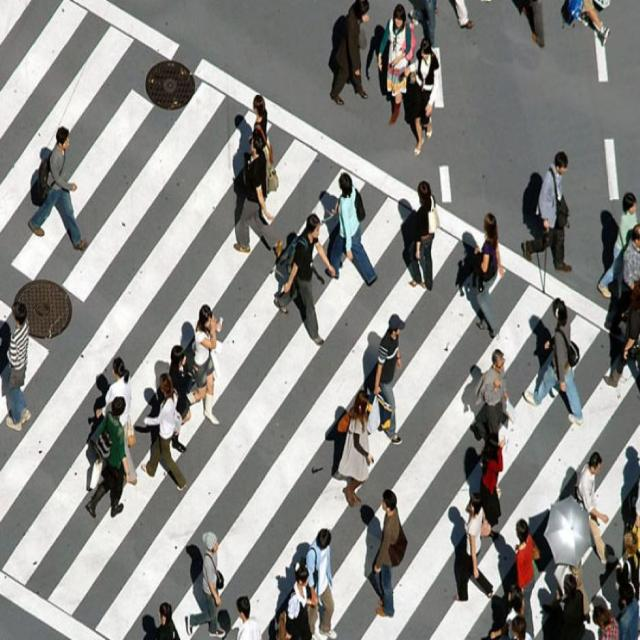body: (440, 496, 615, 640), (78, 322, 197, 494), (403, 0, 631, 48), (272, 208, 337, 349), (520, 294, 586, 431), (140, 535, 219, 640), (25, 123, 89, 252), (516, 145, 577, 277), (232, 130, 284, 259), (444, 215, 498, 339), (359, 311, 408, 446), (324, 170, 379, 288), (221, 112, 274, 234), (522, 314, 580, 416), (84, 395, 131, 519), (334, 382, 376, 514), (140, 372, 186, 491), (453, 486, 497, 605), (95, 354, 136, 480), (371, 484, 408, 622), (400, 31, 440, 158), (270, 541, 321, 640), (376, 3, 416, 127), (183, 527, 227, 639), (184, 302, 223, 427), (472, 346, 512, 467), (322, 399, 368, 502), (308, 176, 357, 270), (354, 500, 393, 617), (601, 281, 640, 392), (598, 191, 638, 299), (330, 0, 370, 107), (454, 360, 502, 449), (575, 450, 611, 566), (614, 437, 640, 593), (389, 185, 429, 286), (607, 221, 640, 338), (462, 210, 507, 295), (407, 180, 441, 292), (304, 527, 337, 640), (5, 300, 32, 432), (360, 328, 396, 418), (513, 517, 539, 640), (478, 428, 508, 530), (168, 344, 194, 454), (284, 560, 318, 640), (250, 94, 269, 206), (555, 572, 584, 640), (489, 583, 522, 640), (621, 529, 640, 602), (233, 594, 263, 640), (618, 581, 640, 640), (591, 600, 620, 639), (156, 600, 181, 640), (510, 613, 532, 640)
